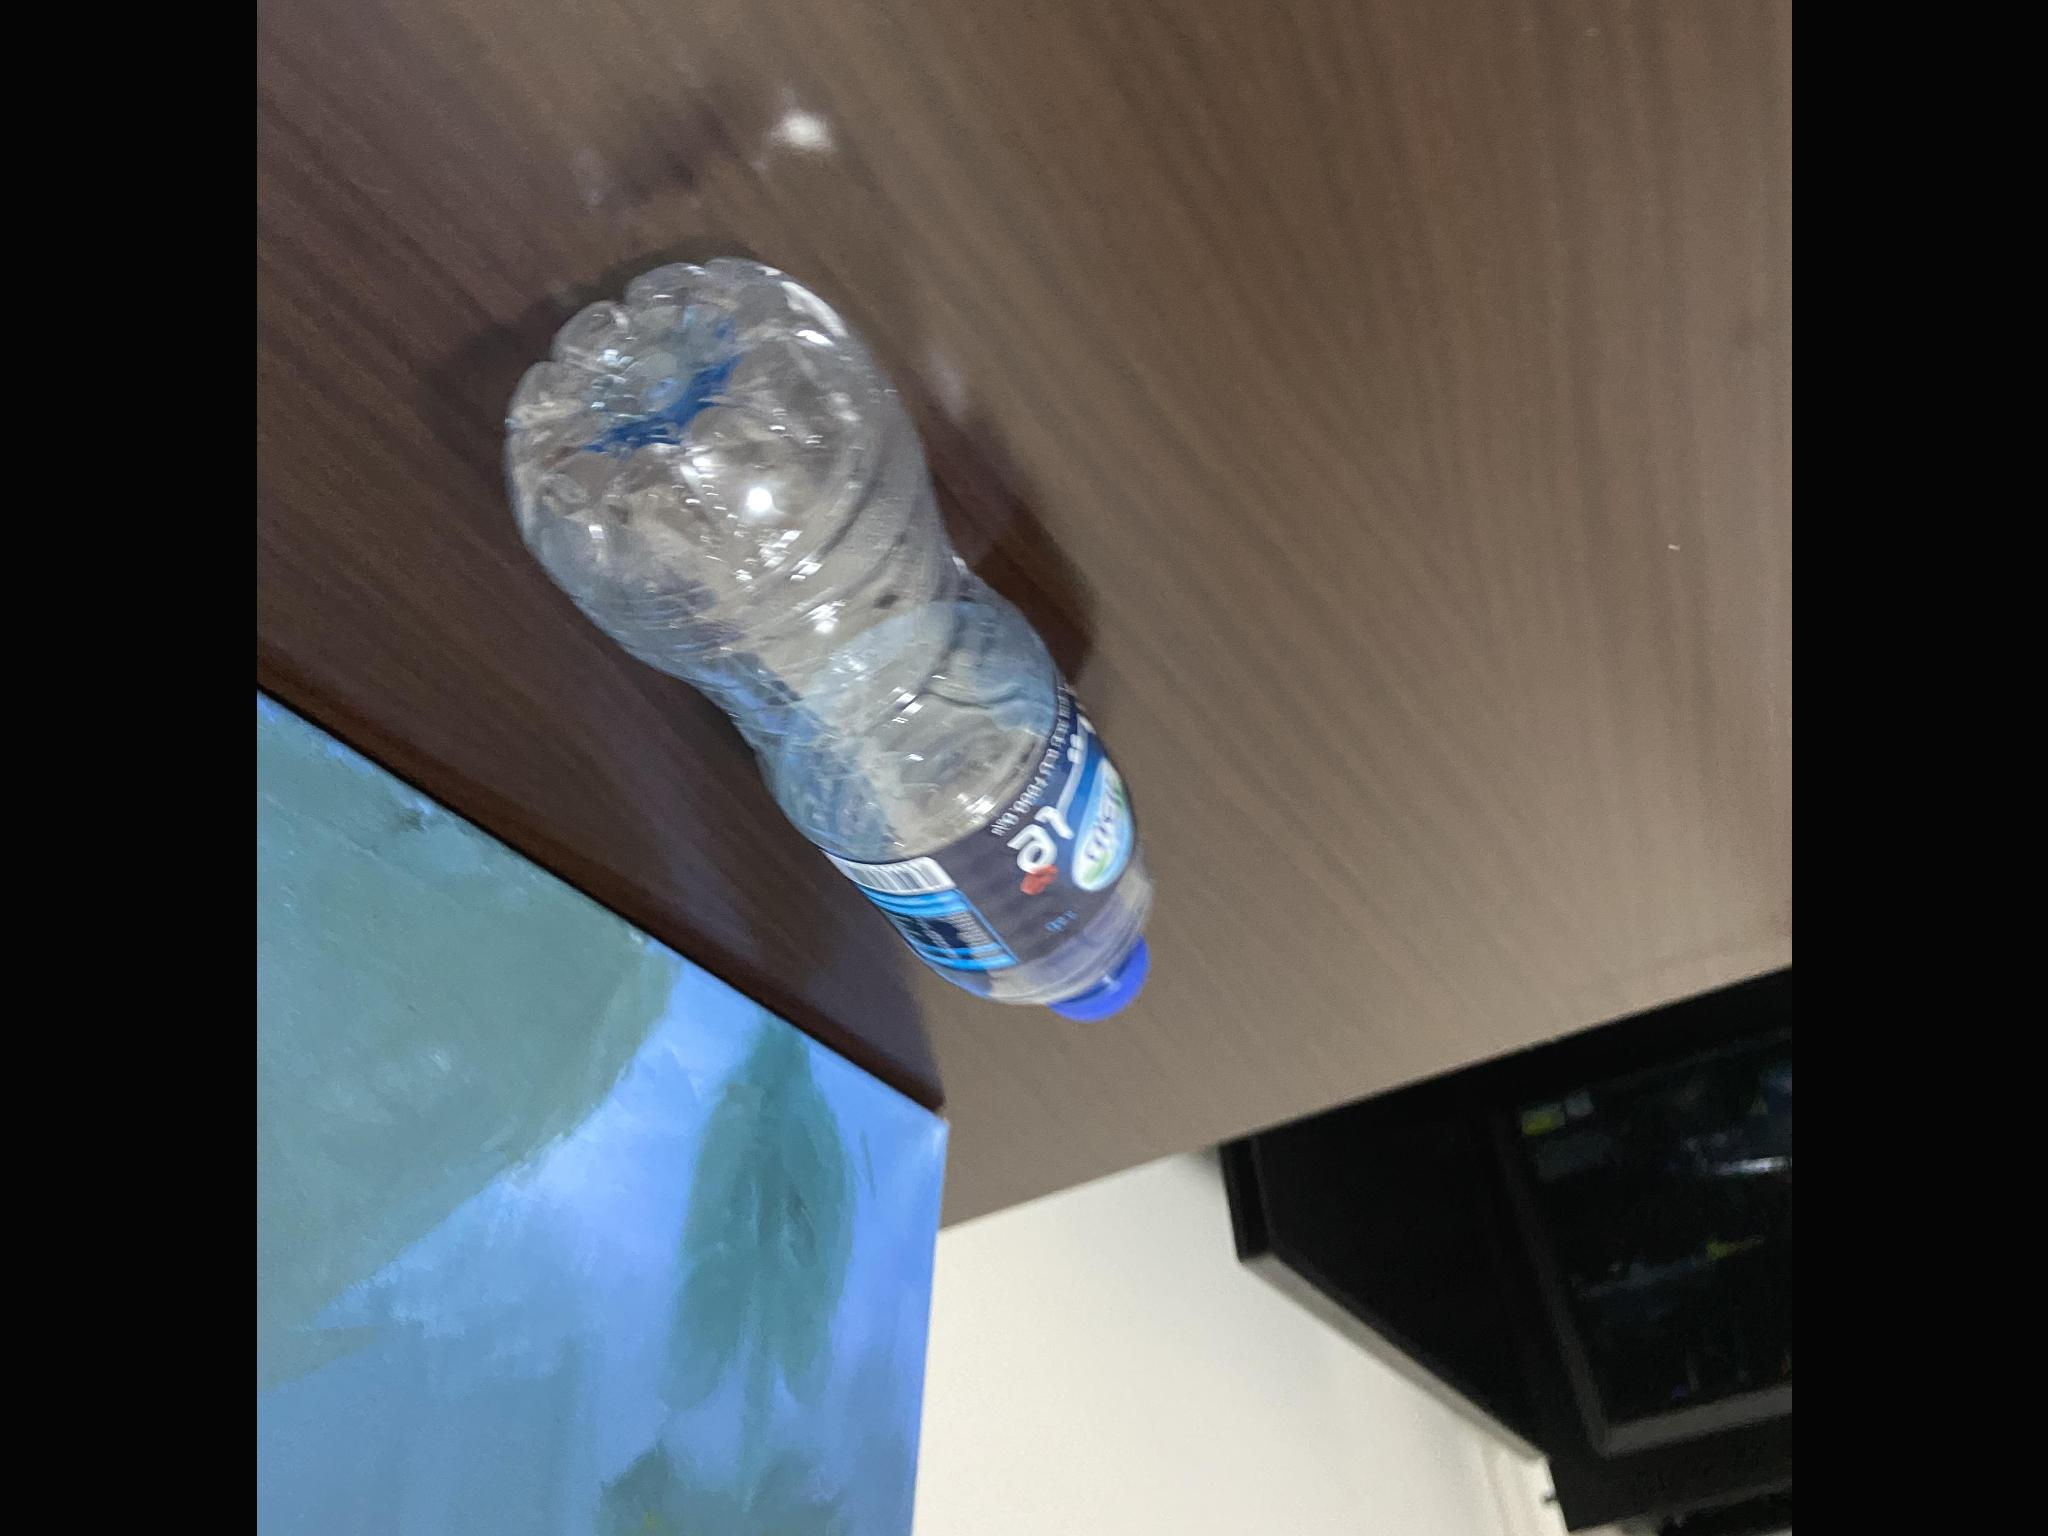bottle: (500, 251, 1168, 1049)
